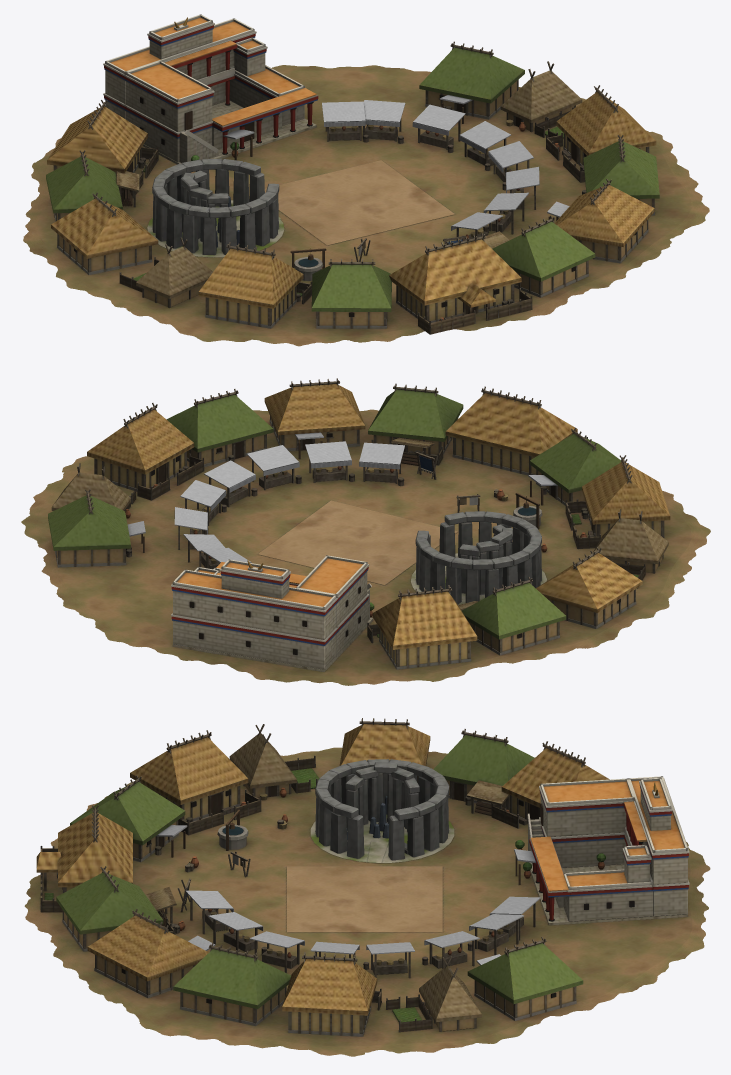
File: bronze-town-medium-b-europe.glb
3 views of the same model, one above another, from view 1: azimuth 30°, elevation 25°; view 2: azimuth 150°, elevation 25°; view 3: azimuth 270°, elevation 25° (orthographic). The views are drawn at different scales.
Visible parts, largest first — view 1: LOD0; view 2: LOD0; view 3: LOD0.
Boxes of the visible parts, x1=… form: LOD0: x1=23, y1=14, x2=709, y2=346; LOD0: x1=21, y1=378, x2=710, y2=685; LOD0: x1=24, y1=718, x2=710, y2=1056.
Size of what is drawn, in the model's own units: 5.92 by 0.8738 by 5.6.
Materials: 3 (3 with a texture image).
